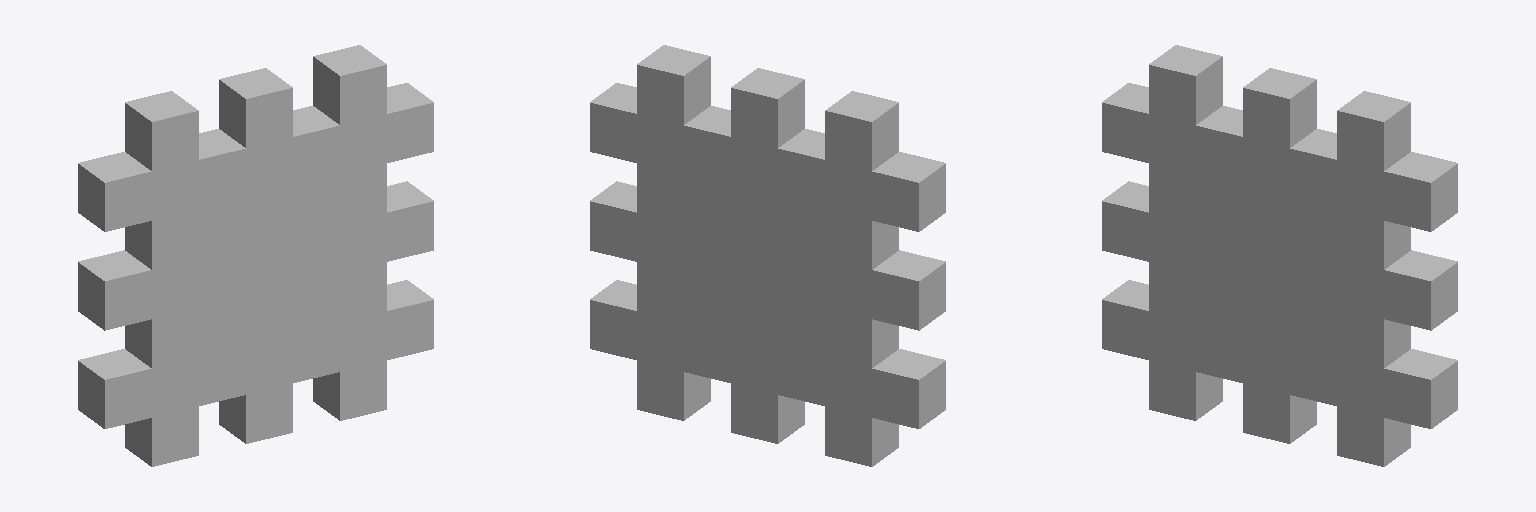
File: coin.obj
3 views of the same model, side by side, from view 1: azimuth 30°, elevation 25°; view 2: azimuth 150°, elevation 25°; view 3: azimuth 330°, elevation 25° (orthographic).
Parts seen in each view (by area): view 1: object 1; view 2: object 1; view 3: object 1.
Part boxes in pixels (x1,y1,x2,y2): object 1: (78, 45, 433, 466); object 1: (590, 45, 945, 466); object 1: (1102, 45, 1457, 466).
Size of the model in its own units: 0.7 by 0.7 by 0.1.